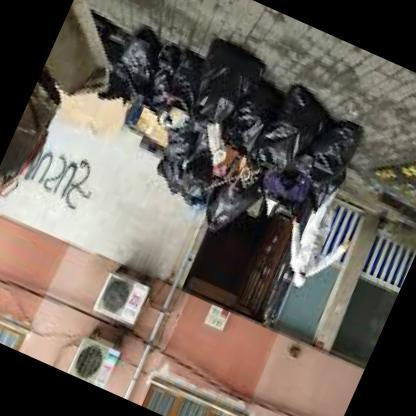Garbage: (76, 0, 393, 268), (188, 25, 271, 132), (247, 76, 334, 176), (196, 158, 263, 244), (106, 23, 167, 102), (160, 40, 216, 124)
